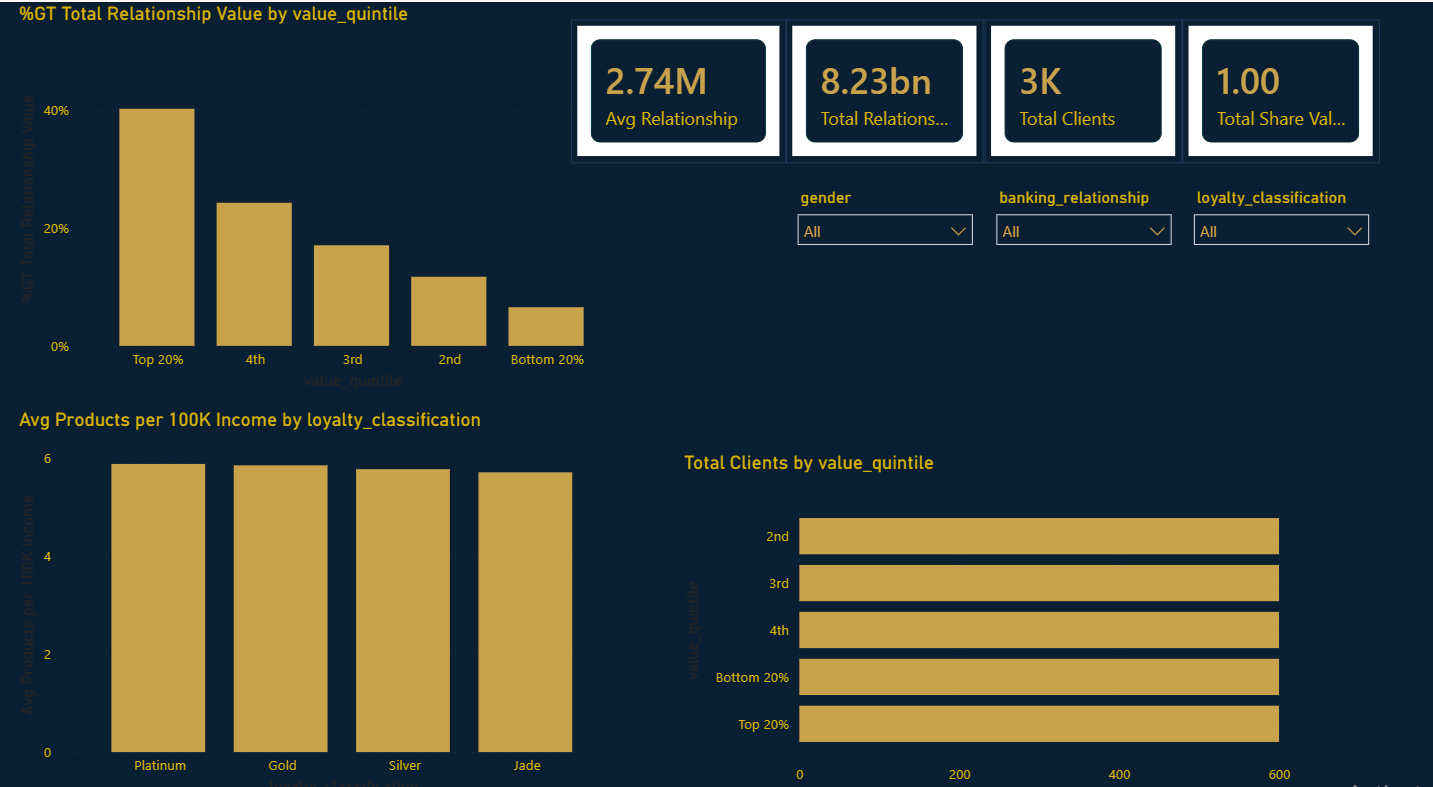

What the dashboard file says about the page in this screenshot:
{"tool":"powerbi","page":{"name":"Page 2","canvas":[1280,720],"ordinal":1},"visuals":[{"type":"columnChart","fields":{"Category":["banking_clients.value_quintile"],"Y":["banking_clients.Total Relationship Value"]},"box":[16,0,550,350],"z":1000},{"type":"columnChart","fields":{"Category":["banking_clients.loyalty_classification"],"Y":["banking_clients.Avg Products per 100K Income"]},"box":[16,362,550,350],"z":2000},{"type":"slicer","fields":{"Values":["banking_clients.gender"]},"box":[704,160,176,64],"z":3000},{"type":"slicer","fields":{"Values":["banking_clients.banking_relationship"]},"box":[880,160,176,64],"z":4000},{"type":"slicer","fields":{"Values":["banking_clients.loyalty_classification"]},"box":[1056,160,176,64],"z":5000},{"type":"cardVisual","fields":{"Data":["banking_clients.Avg Relationship Value"]},"box":[512,16,192,128],"z":6000},{"type":"cardVisual","fields":{"Data":["banking_clients.Total Relationship Value"]},"box":[704,16,176,128],"z":7000},{"type":"cardVisual","fields":{"Data":["banking_clients.Total Clients"]},"box":[880,16,176,128],"z":8000},{"type":"cardVisual","fields":{"Data":["banking_clients.Share of Total Value"]},"box":[1056,16,176,128],"z":9000},{"type":"barChart","fields":{"Y":["banking_clients.Total Clients"],"Category":["banking_clients.value_quintile"]},"box":[608,400,550,320],"z":10000}]}

Visuals, with their boxes in screenshot pixels (x1, y1, x2, y2), scaled from the page's 1280x720 canvas onto the 1433x787 screenshot:
columnChart - banking_clients.value_quintile x banking_clients.Total Relationship Value: <box>18,0,634,383</box>
columnChart - banking_clients.loyalty_classification x banking_clients.Avg Products per 100K Income: <box>18,396,634,778</box>
slicer - banking_clients.gender: <box>788,175,985,245</box>
slicer - banking_clients.banking_relationship: <box>985,175,1182,245</box>
slicer - banking_clients.loyalty_classification: <box>1182,175,1379,245</box>
cardVisual - banking_clients.Avg Relationship Value: <box>573,17,788,157</box>
cardVisual - banking_clients.Total Relationship Value: <box>788,17,985,157</box>
cardVisual - banking_clients.Total Clients: <box>985,17,1182,157</box>
cardVisual - banking_clients.Share of Total Value: <box>1182,17,1379,157</box>
barChart - banking_clients.Total Clients x banking_clients.value_quintile: <box>681,437,1296,786</box>
